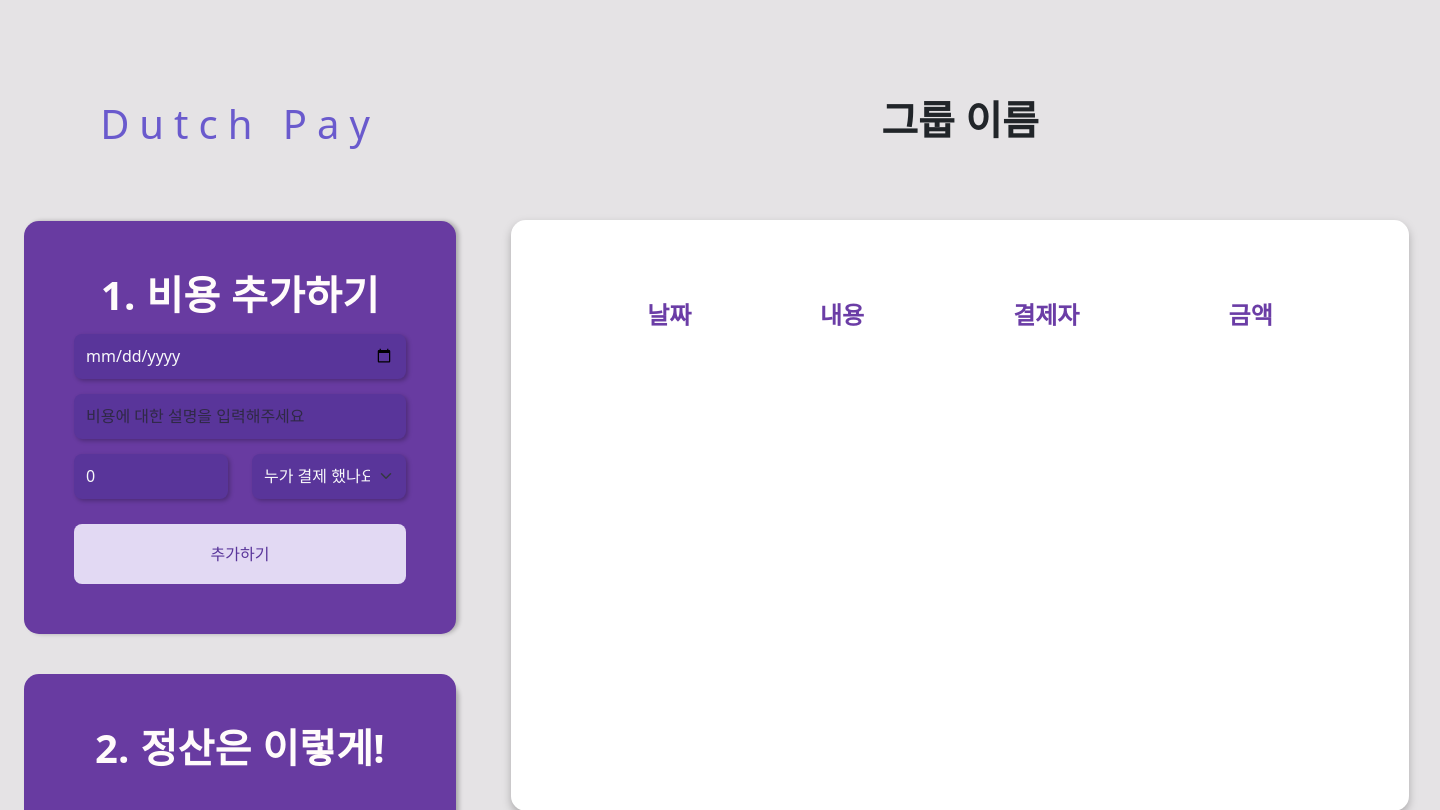
Test: 비용정산 메인페이지 › 새로운 비용이 입력됐을 때 › 정산 결과 또한 업데이트된다
Step 1. Type "2024-01-10" into the date field with placeholder "결제한 날짜를 선택해주세요" → (240, 356), box [74,334,406,378]
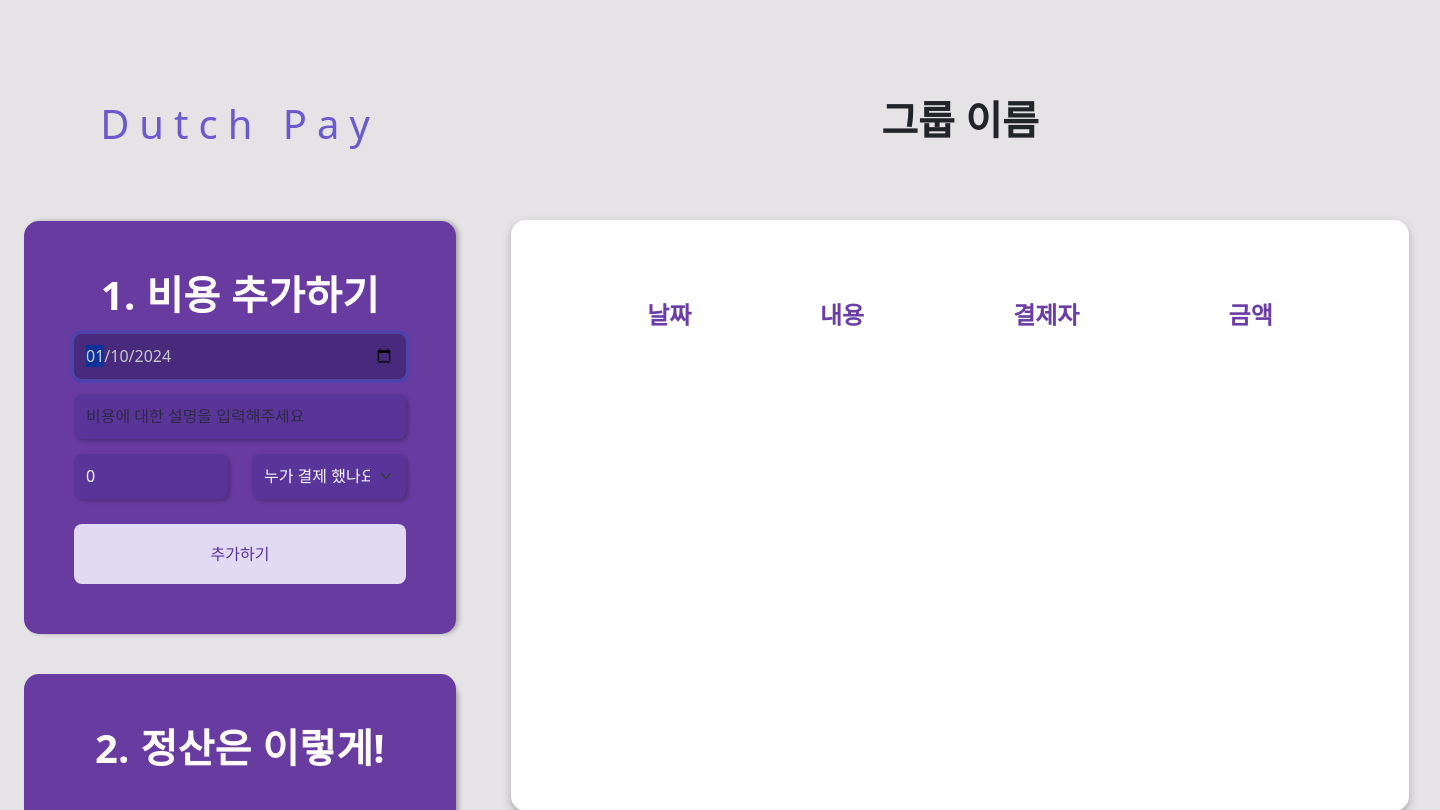
Step 2. Type "장보기" into the field with placeholder "비용에 대한 설명을 입력해주세요" → (240, 416), box [74,394,406,438]
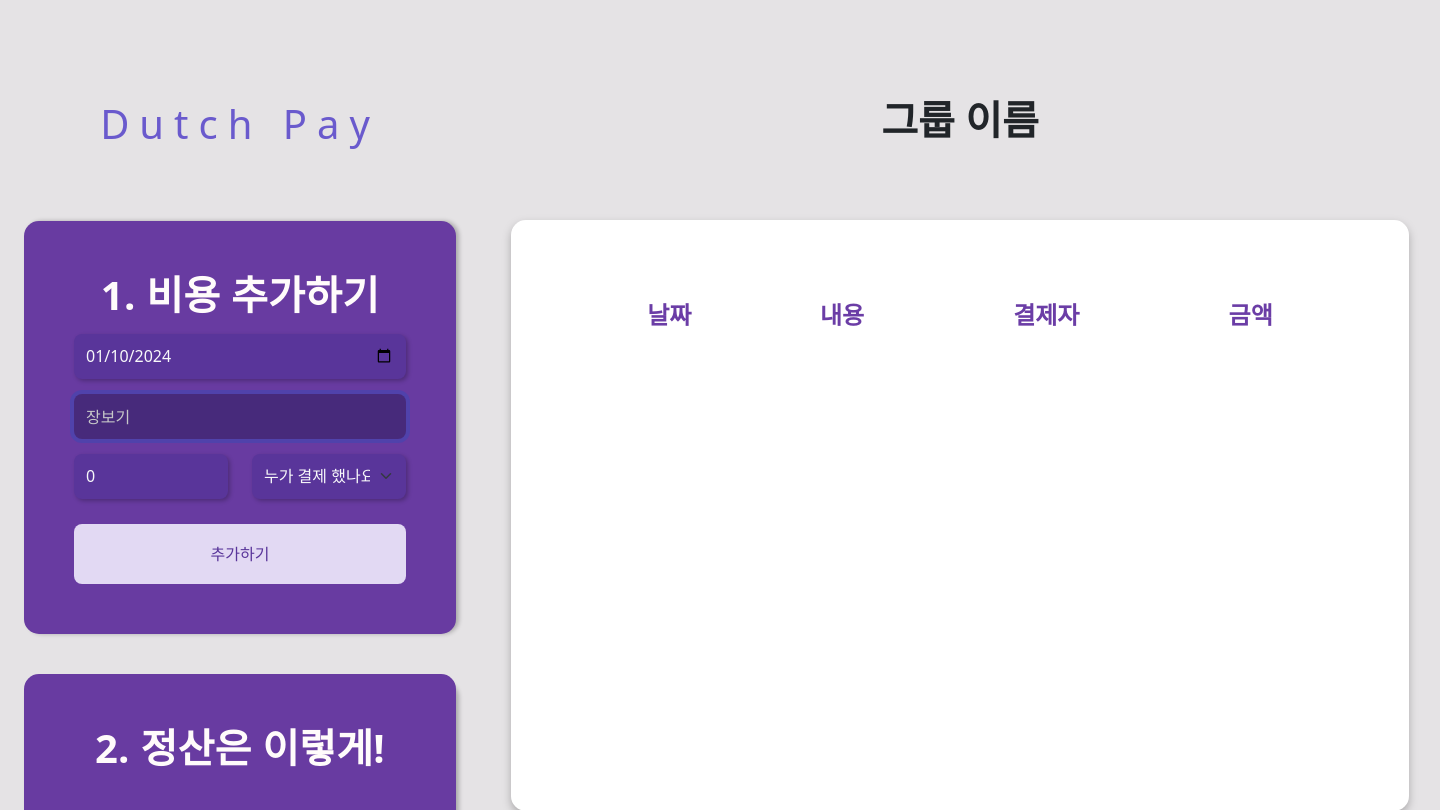
Step 3. Type "30000" into the number field with placeholder "비용은 얼마였나요?" → (151, 476), box [74,454,228,498]
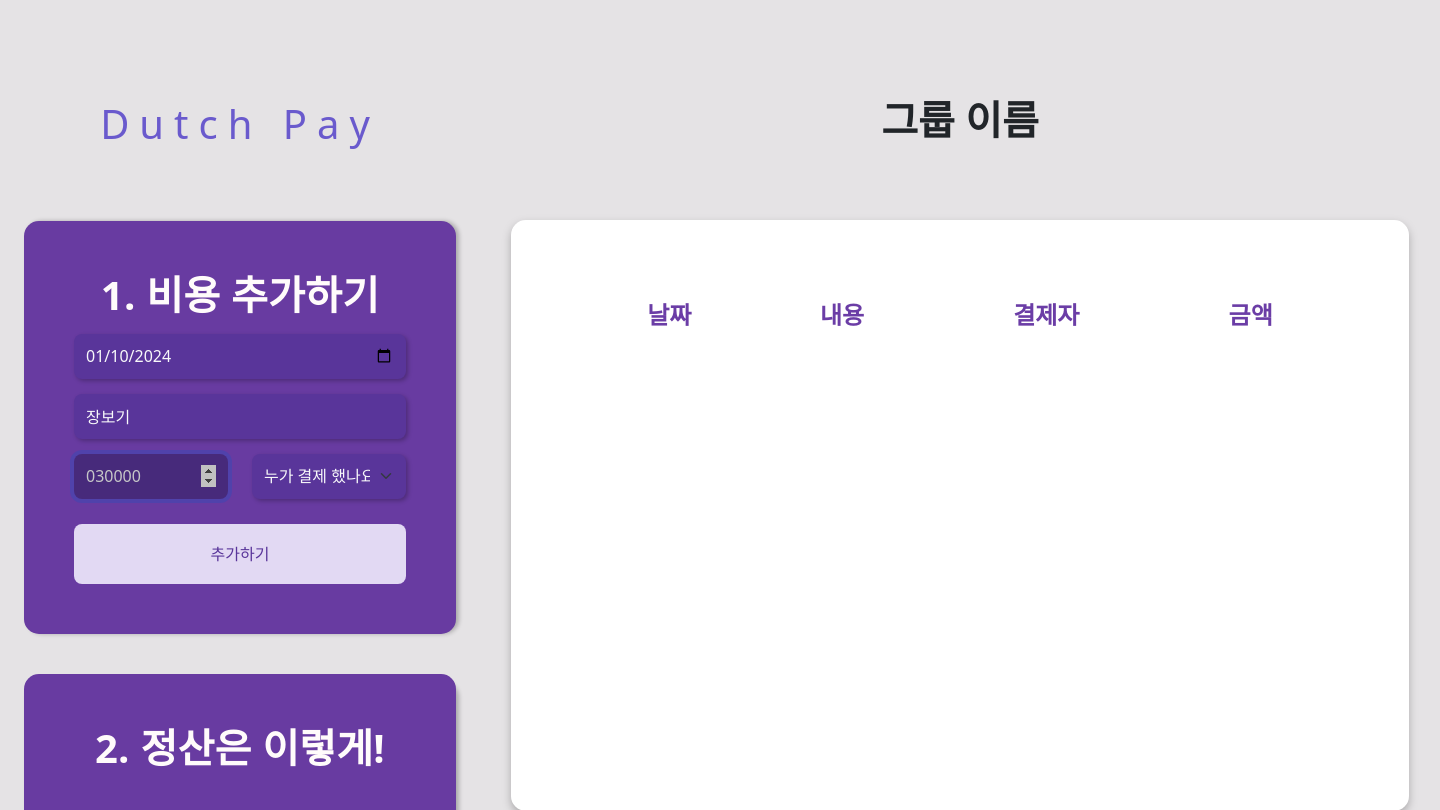
Step 4. Select "영수" in the dropdown showing "누가 결제" → (329, 476), box [252,454,406,498]
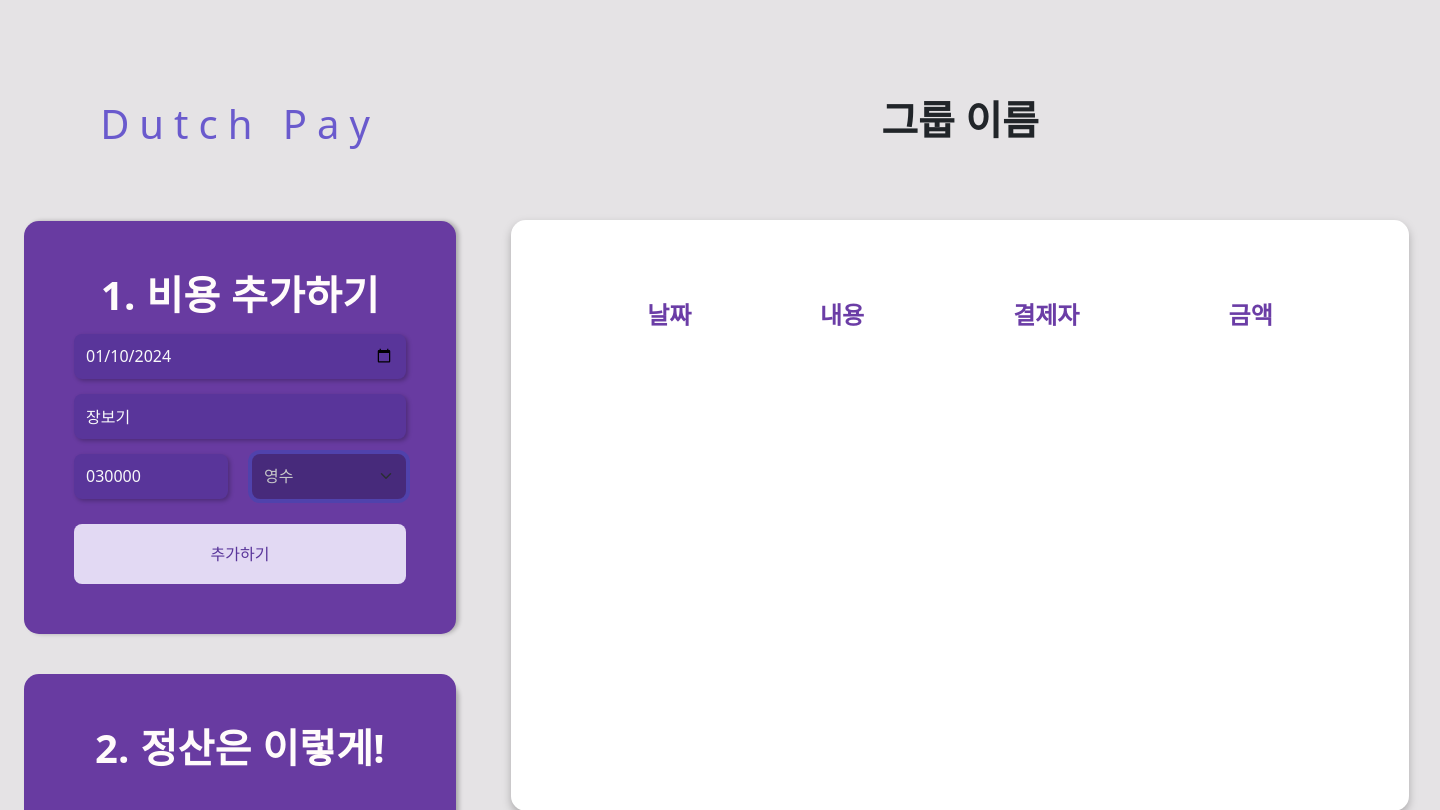
Step 5. Click the button "추가하기" → (240, 554), box [74,524,406,584]
(page scrolled)
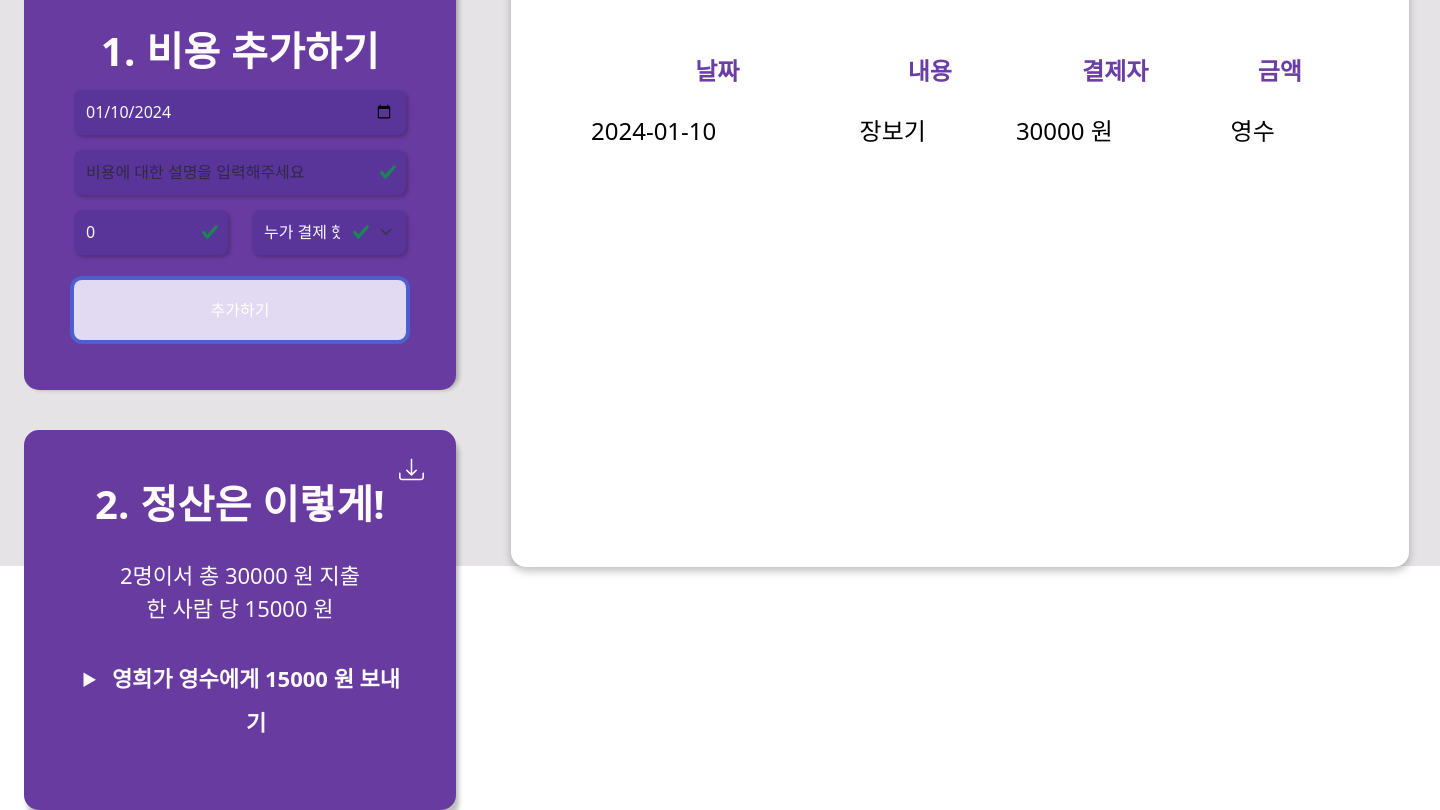
Now the text "2명이서 총 30000 원 지출" is shown, box [120,560,360,590]
Now the text "영희가 영수에게 15000 원 보내기" is shown, box [112,663,400,737]
